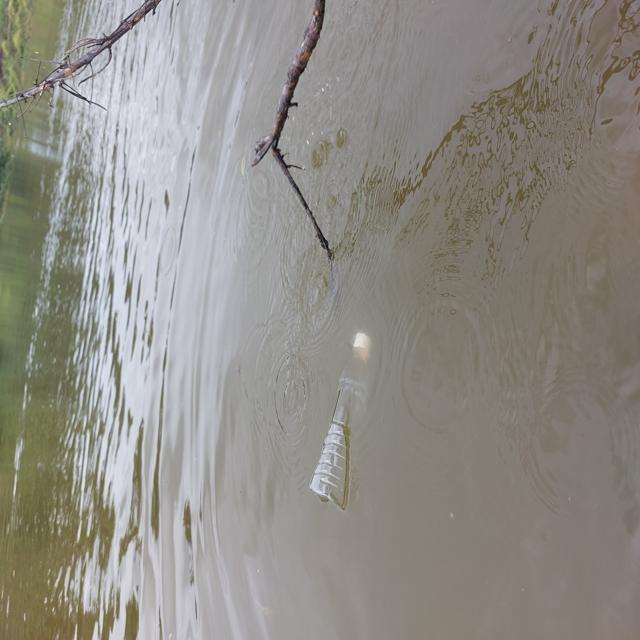waterbottle: (308, 313, 394, 529)
